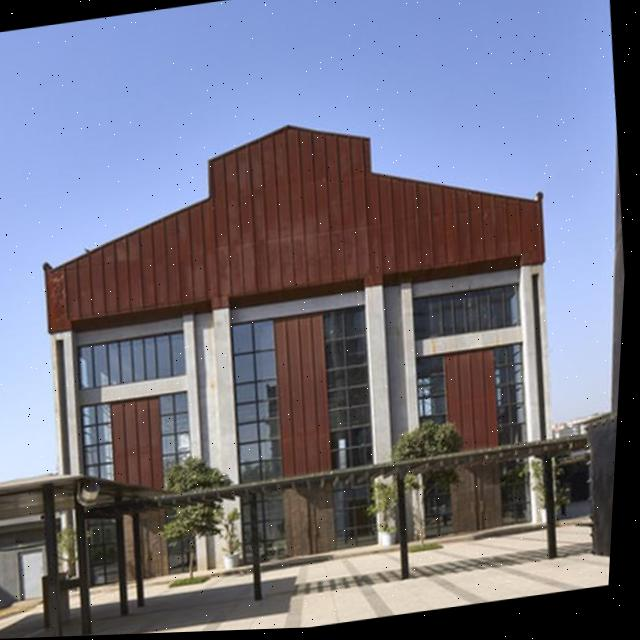building: (11, 85, 582, 598)
